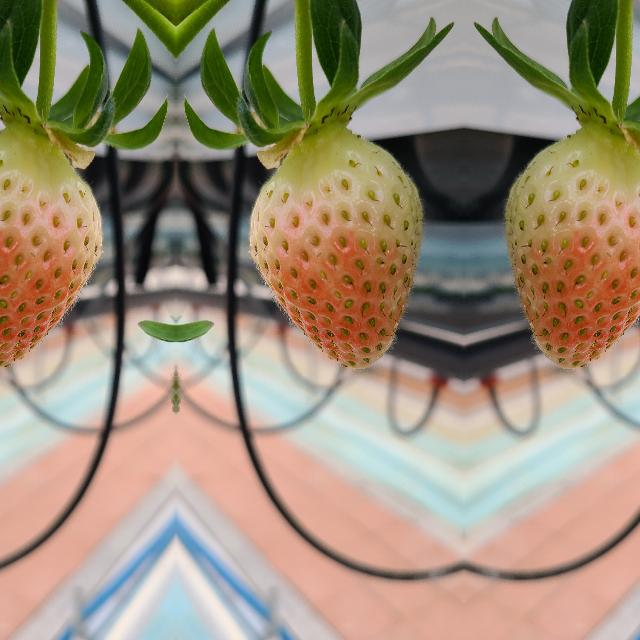Health_50: (246, 128, 426, 372), (500, 128, 640, 372), (0, 128, 104, 372)
